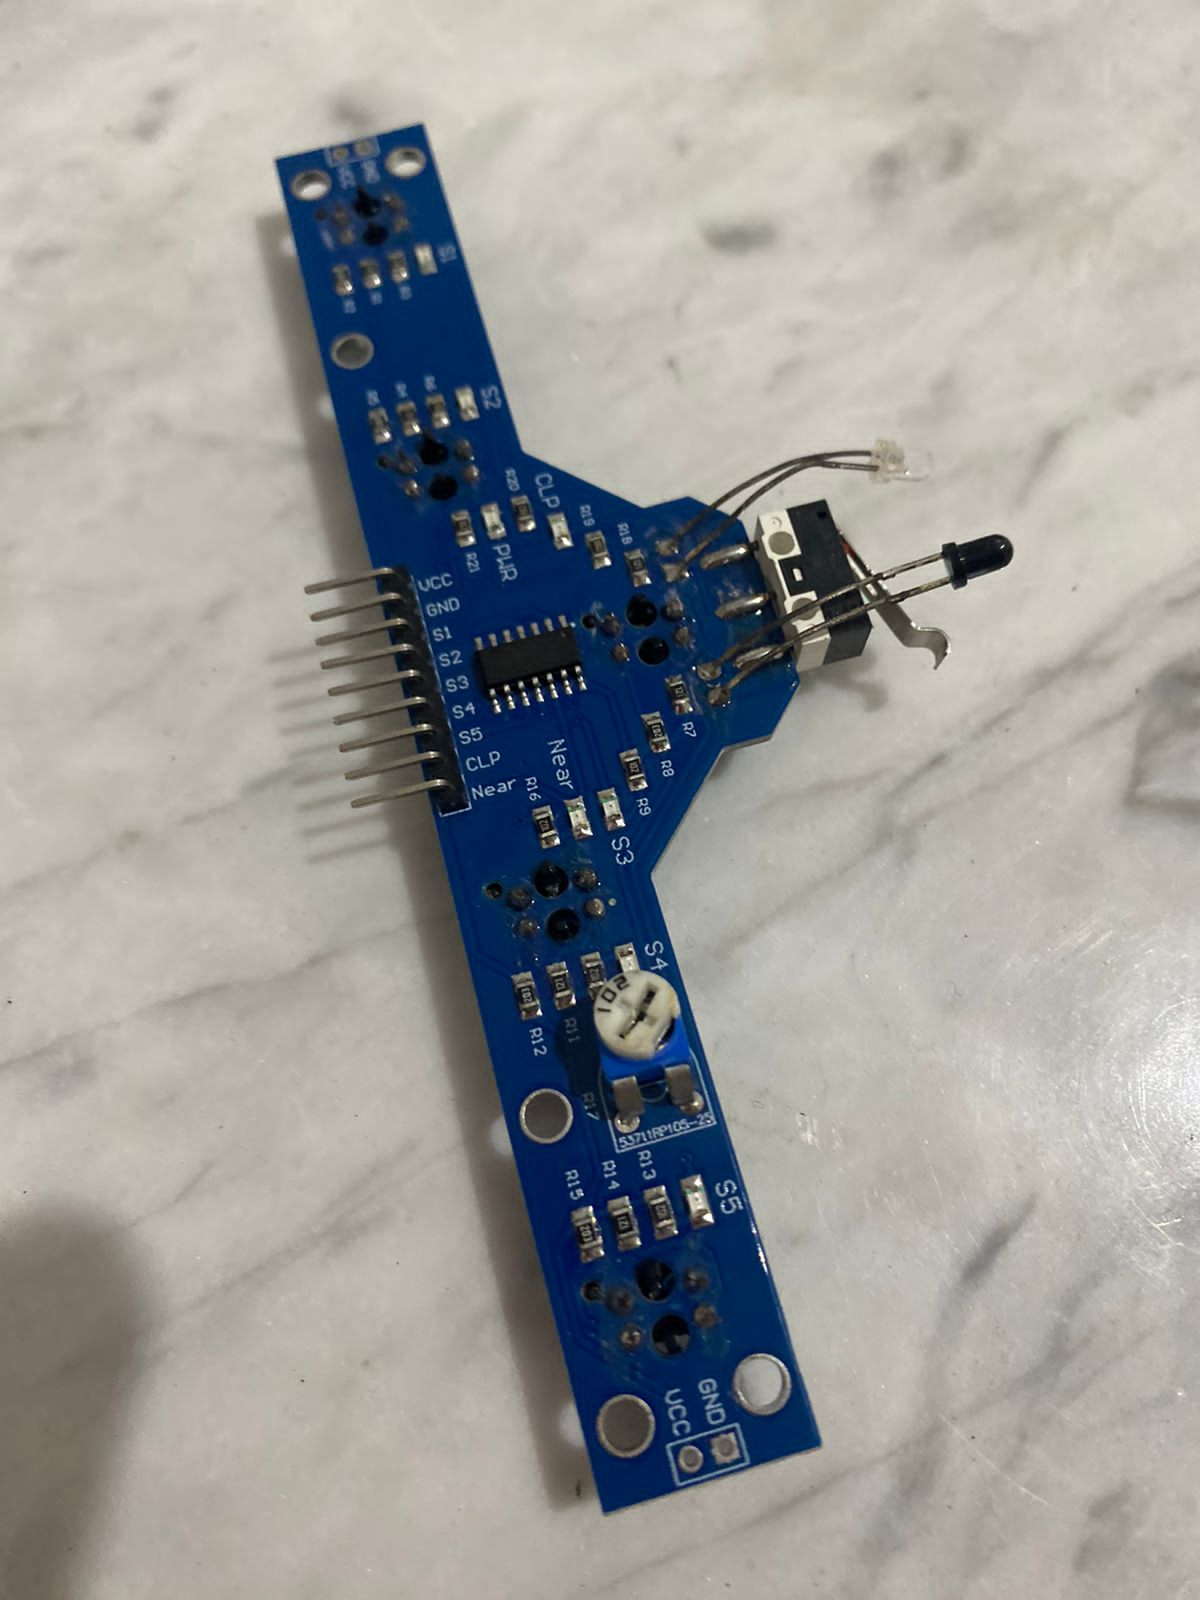Capteur-IR-5 Voies: (248, 127, 1018, 1518)
